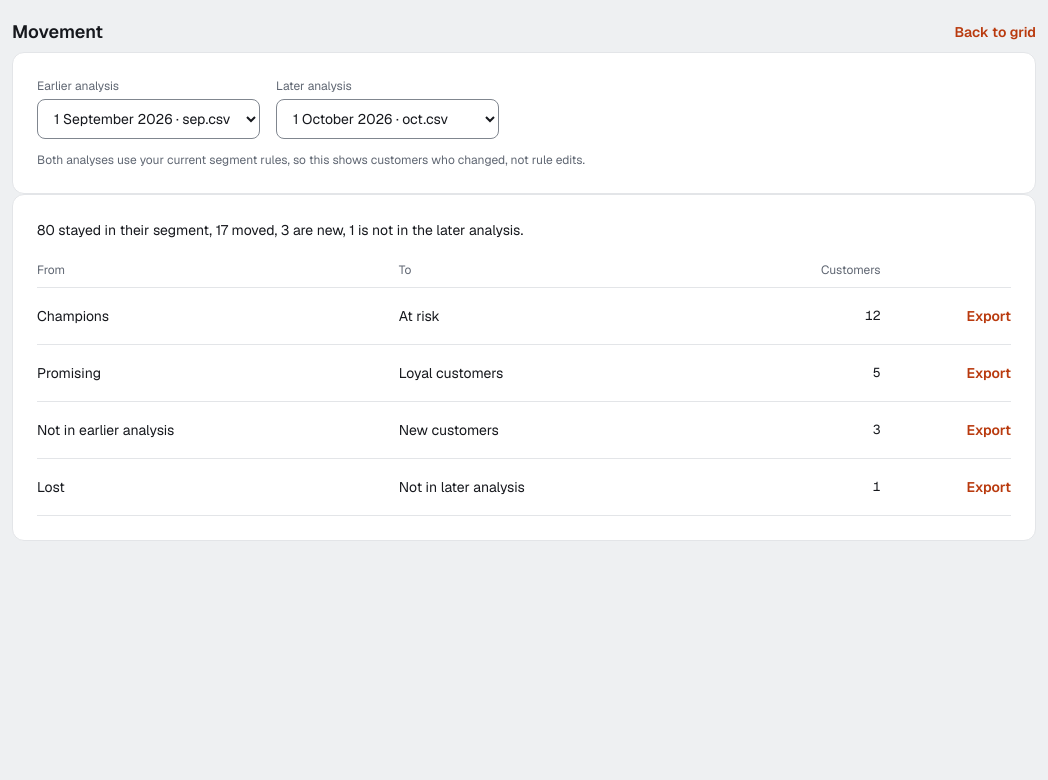
Movement (S10, PRD story 8) › compares other analyses when chosen, and refuses a later one that is not later
The width and height of the screenshot is (1048, 780).
Select "1 August 2026 · aug.csv" in the dropdown labelled "Earlier analysis" at point(148, 119), box [37, 99, 260, 139]
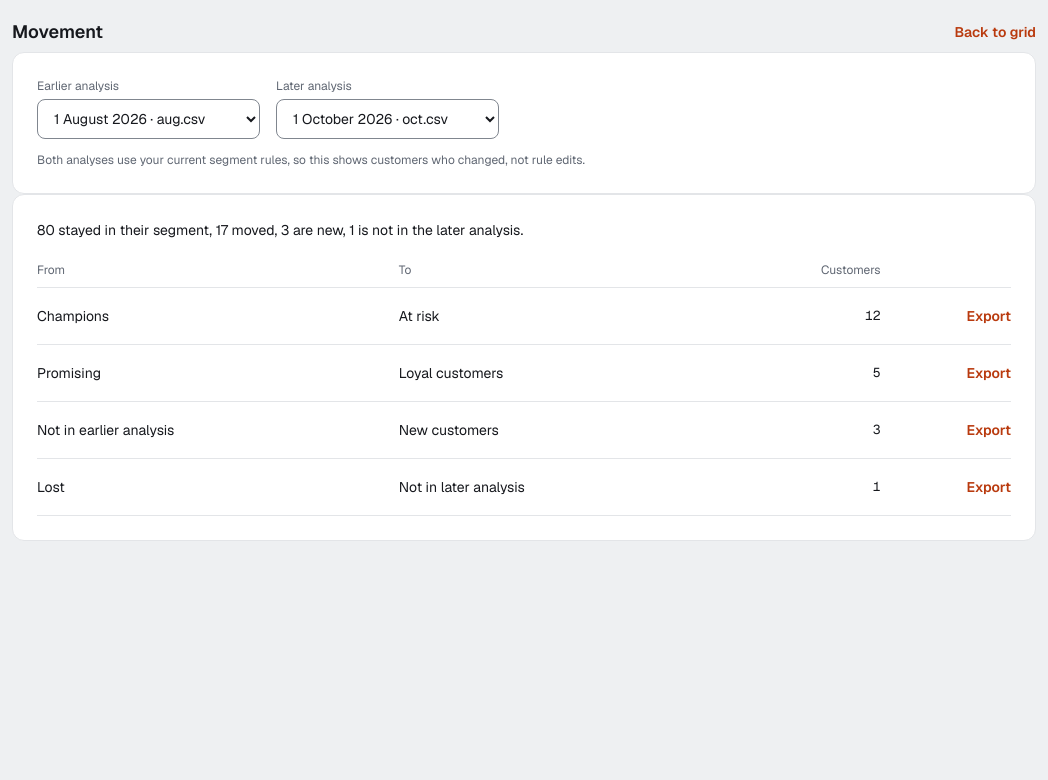
Select "1 August 2026 · aug.csv" in the dropdown labelled "Later analysis" at point(388, 119), box [276, 99, 499, 139]
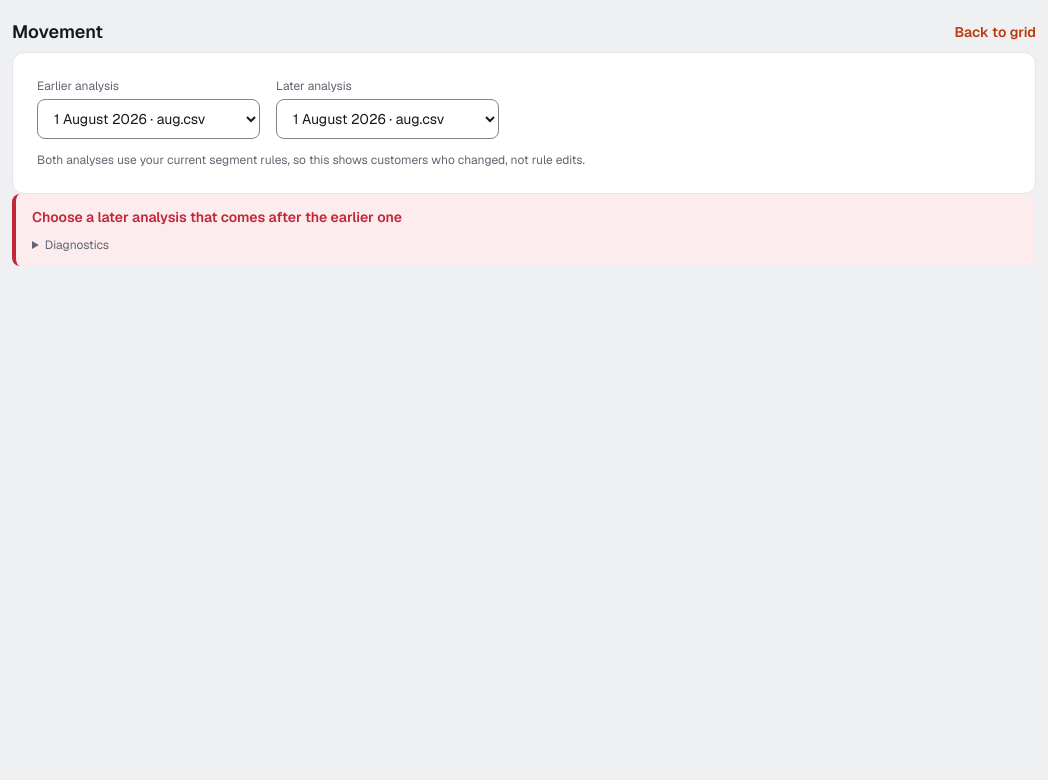
Result: the message shows "Choose a later analysis" at [32, 208, 402, 226]
